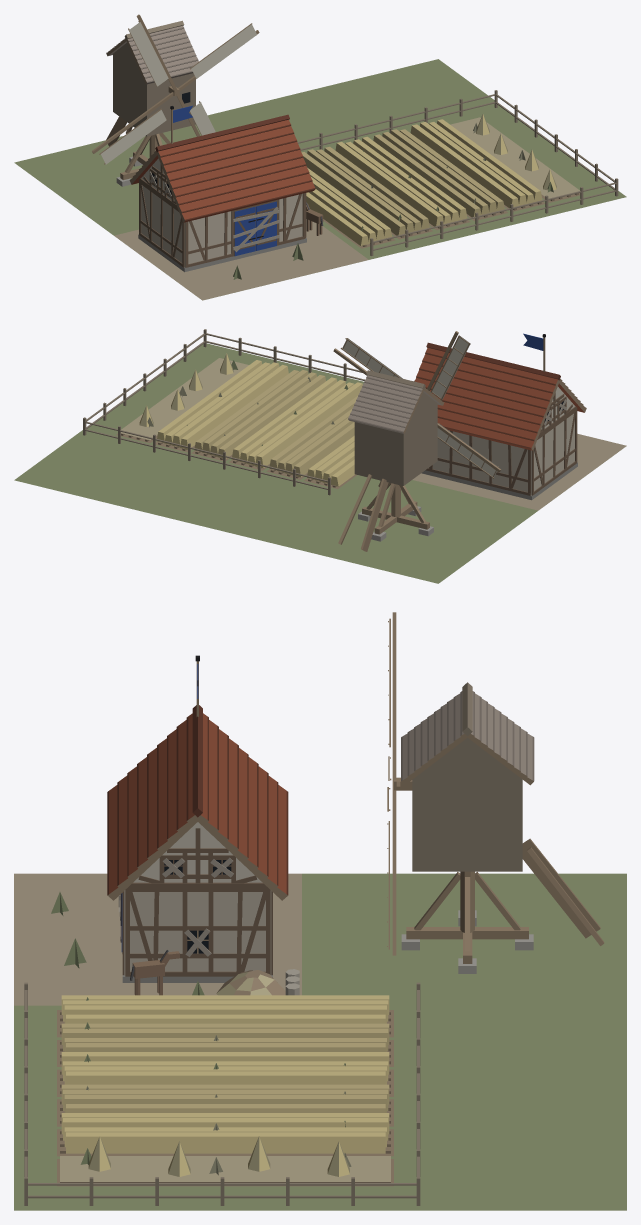
File: bauernhof.glb
The picture shows the model from 3 angles, top to bottom: view 1: azimuth 30°, elevation 25°; view 2: azimuth 150°, elevation 25°; view 3: azimuth 270°, elevation 25°; orthographic projection. The views are drawn at different scales.
Visible parts, largest first — view 1: Haus, Arbeit, Leerstand; view 2: Haus, Arbeit; view 3: Haus, Arbeit, Leerstand.
Boxes of the visible parts, x1,y1,x2,y2 form: Haus: [14, 14, 626, 300]; Arbeit: [101, 22, 579, 245]; Leerstand: [149, 123, 553, 279]; Haus: [14, 329, 626, 583]; Arbeit: [121, 336, 498, 486]; Haus: [14, 612, 626, 1210]; Arbeit: [60, 950, 390, 1181]; Leerstand: [51, 857, 351, 1175].
Size of the model in its own units: 26 by 11.01 by 20.
